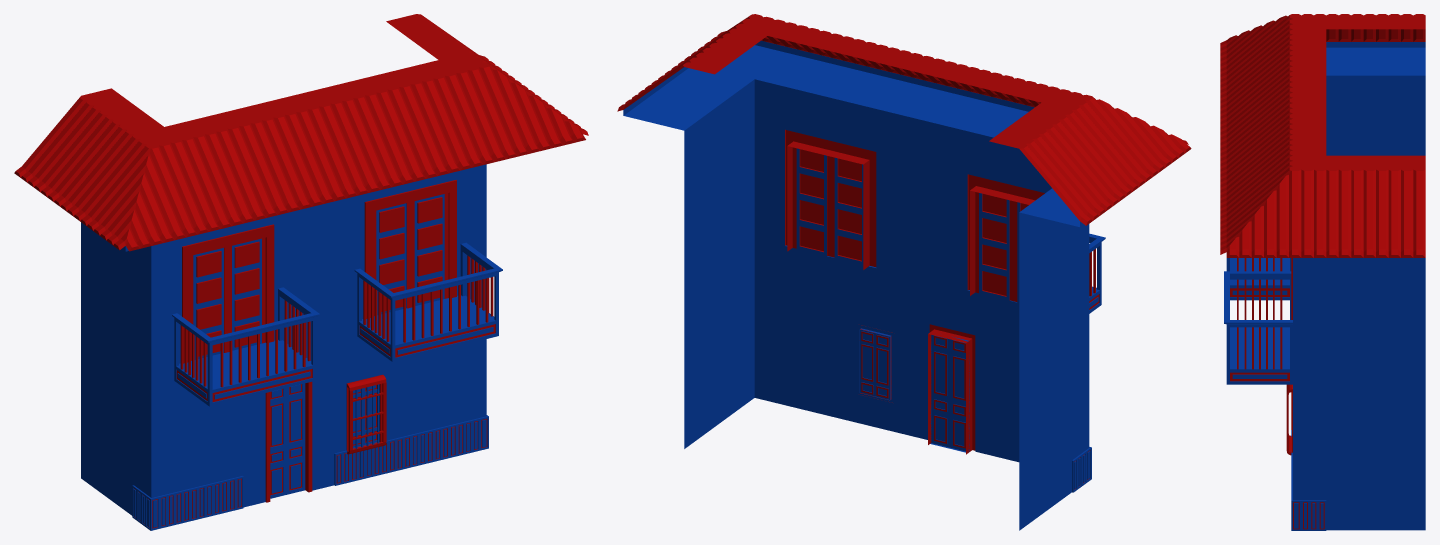
The model's file is House08.fbx.
3 views of the same model, side by side, from view 1: azimuth 30°, elevation 25°; view 2: azimuth 150°, elevation 25°; view 3: azimuth 270°, elevation 25° (orthographic). The views are drawn at different scales.
Parts seen in each view (by area): view 1: RoofCorner17, Roof3M36, Roof3M35, Roof3M37, Balcony12, Balcony13, WallSecondFloor3M17, WallSecondFloor3M19, Roof3M38, WallFrameSmallDoor5, RoofCorner18, BigDoor14 (+20 smaller); view 2: WallSecondFloor3M17, WallFrameSmallDoor5, Wall2M28, Roof3M38, WallSecondFloor3M20, WallSecondFloor3M19, WallSecondFloor3M21, WallSmallWindows3, WallFrameDoor28, WallCorner29, WallCorner31, BigDoor14 (+16 smaller); view 3: WallSecondFloor3M21, WallSecondFloor3M20, Roof3M39, RoofCorner18, WallSecondFloor3M18, Roof3M38, Balcony13, Roof3M35, Roof3M37, Roof3M36, WallCorner31, WallCorner29 (+4 smaller).
Boxes of the visible parts, x1,y1,x2,y2 form: RoofCorner17: (67, 127, 220, 251); Roof3M36: (256, 82, 403, 206); Roof3M35: (165, 104, 311, 228); Roof3M37: (347, 60, 494, 184); Balcony12: (172, 287, 319, 406); Balcony13: (354, 242, 502, 361); WallSecondFloor3M17: (273, 194, 364, 340); WallSecondFloor3M19: (81, 319, 133, 515); Roof3M38: (14, 88, 163, 211); WallFrameSmallDoor5: (243, 326, 334, 507); RoofCorner18: (439, 52, 588, 161); BigDoor14: (373, 193, 448, 315); WallSecondFloor3M17: (876, 109, 967, 290); WallFrameSmallDoor5: (907, 276, 998, 456); Wall2M28: (785, 246, 845, 419); Roof3M38: (989, 102, 1138, 226); WallSecondFloor3M20: (684, 92, 736, 289); WallSecondFloor3M19: (1019, 333, 1071, 530); WallSecondFloor3M21: (684, 252, 736, 448); WallSmallWindows3: (846, 261, 906, 434); WallFrameDoor28: (785, 86, 876, 269); WallCorner29: (737, 238, 784, 410); WallCorner31: (737, 79, 784, 250); BigDoor14: (792, 147, 863, 264); WallSecondFloor3M21: (1326, 380, 1425, 530); WallSecondFloor3M20: (1326, 258, 1425, 379); Roof3M39: (1326, 155, 1425, 257); RoofCorner18: (1220, 155, 1326, 257); WallSecondFloor3M18: (1326, 75, 1425, 155); Roof3M38: (1326, 14, 1425, 75); Balcony13: (1224, 271, 1292, 384); Roof3M35: (1220, 29, 1326, 126); Roof3M37: (1220, 113, 1326, 210); Roof3M36: (1220, 71, 1326, 168); WallCorner31: (1293, 258, 1326, 379); WallCorner29: (1293, 380, 1326, 500).
Bounding box in the file's own units: 1540 × 1200 × 620.
